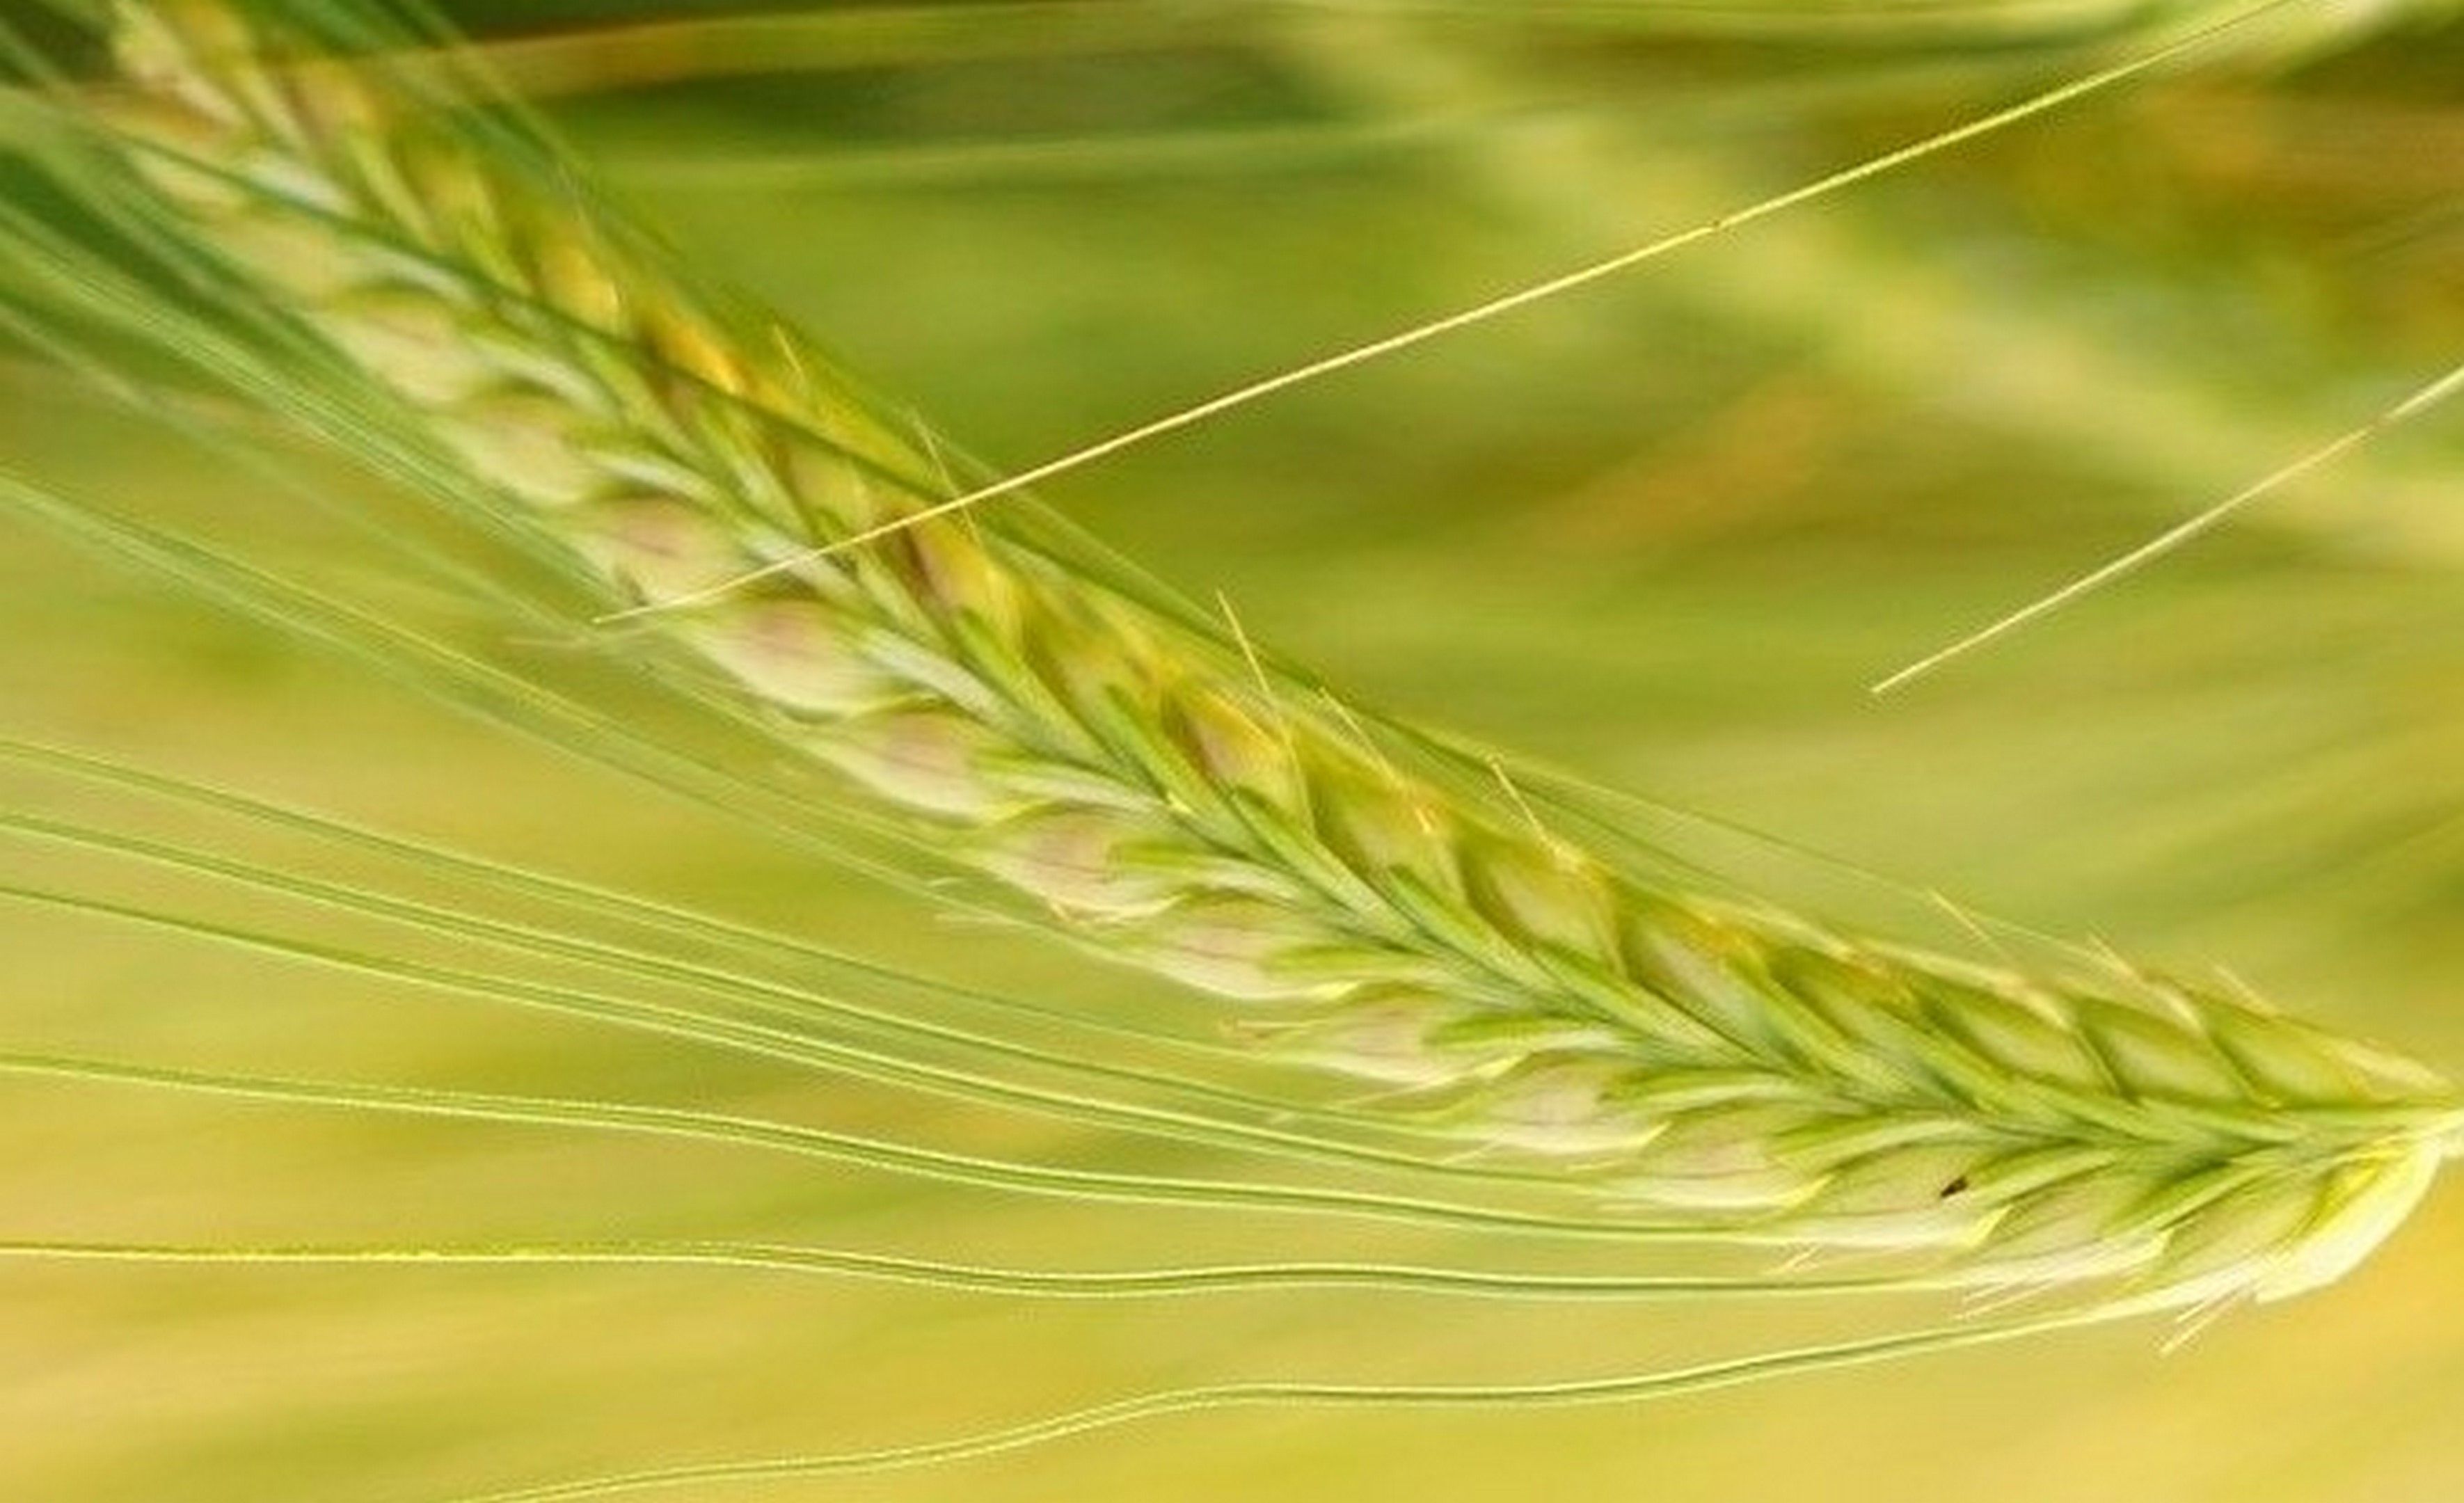Healthy Wheat: (299, 114, 2416, 1323)
